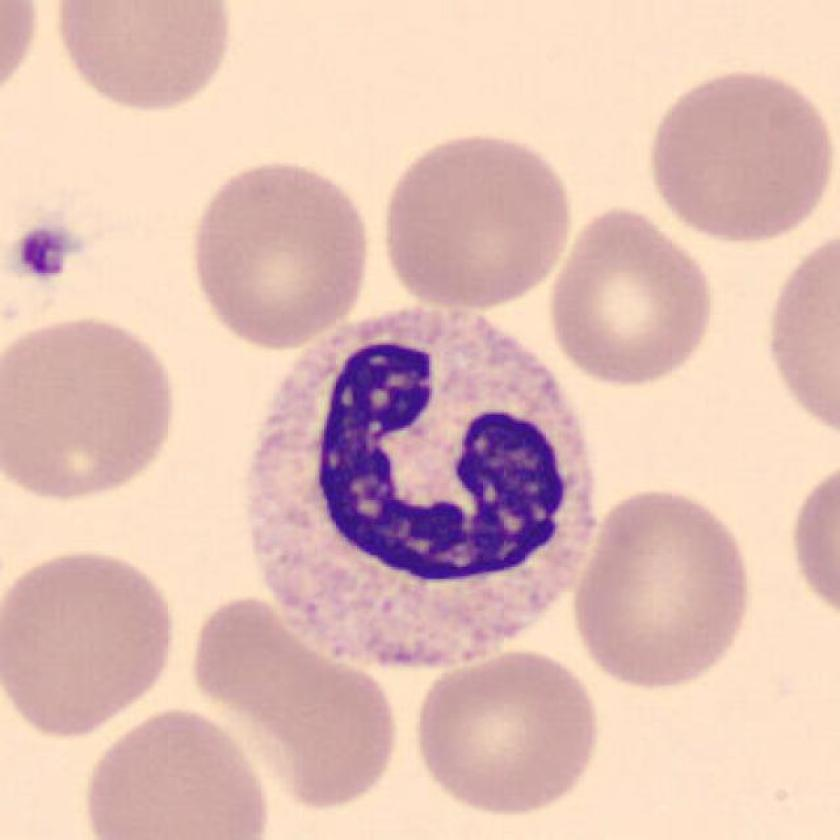neutrophil: (249, 314, 598, 671)
